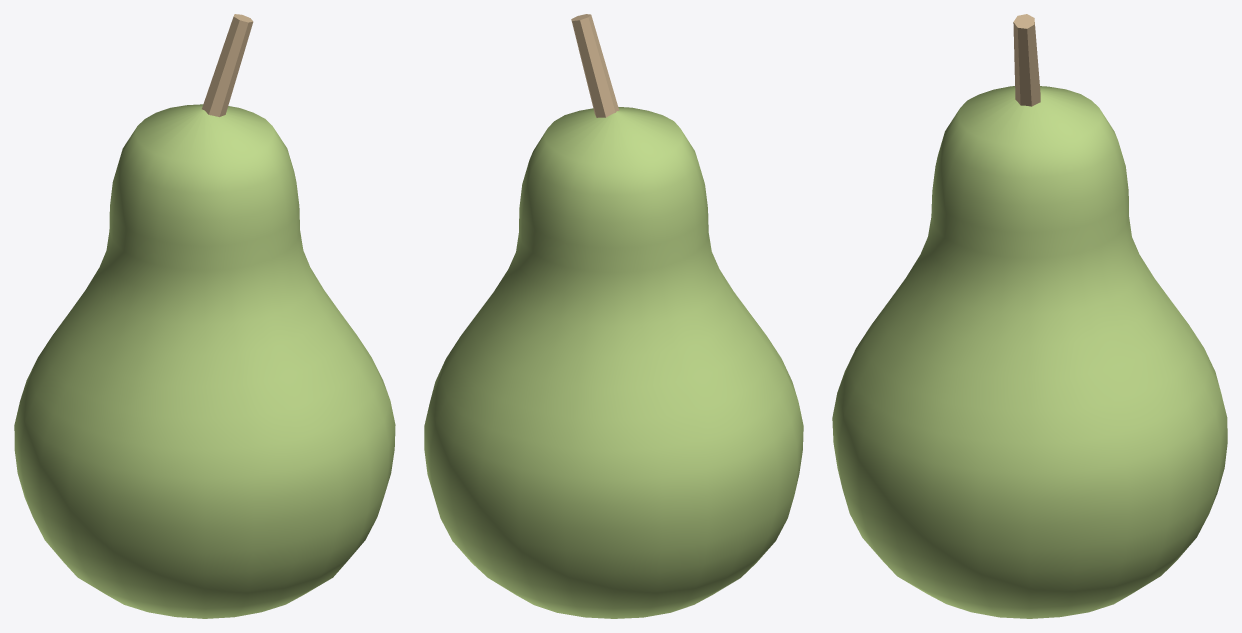
The model's file is fresh-produce-and-groceries-pear-conference-086f4928__24319.glb.
3 renders of one model, left to right at view 1: azimuth 30°, elevation 25°; view 2: azimuth 150°, elevation 25°; view 3: azimuth 270°, elevation 25°, orthographic. The views are drawn at different scales.
Visible parts, largest first — view 1: pear-conference; view 2: pear-conference; view 3: pear-conference.
Boxes of the visible parts, x1,y1,x2,y2 form: pear-conference: [14, 14, 395, 618]; pear-conference: [424, 14, 803, 618]; pear-conference: [832, 14, 1227, 618].
Size of the model in its own units: 0.0739 by 0.1227 by 0.074.
